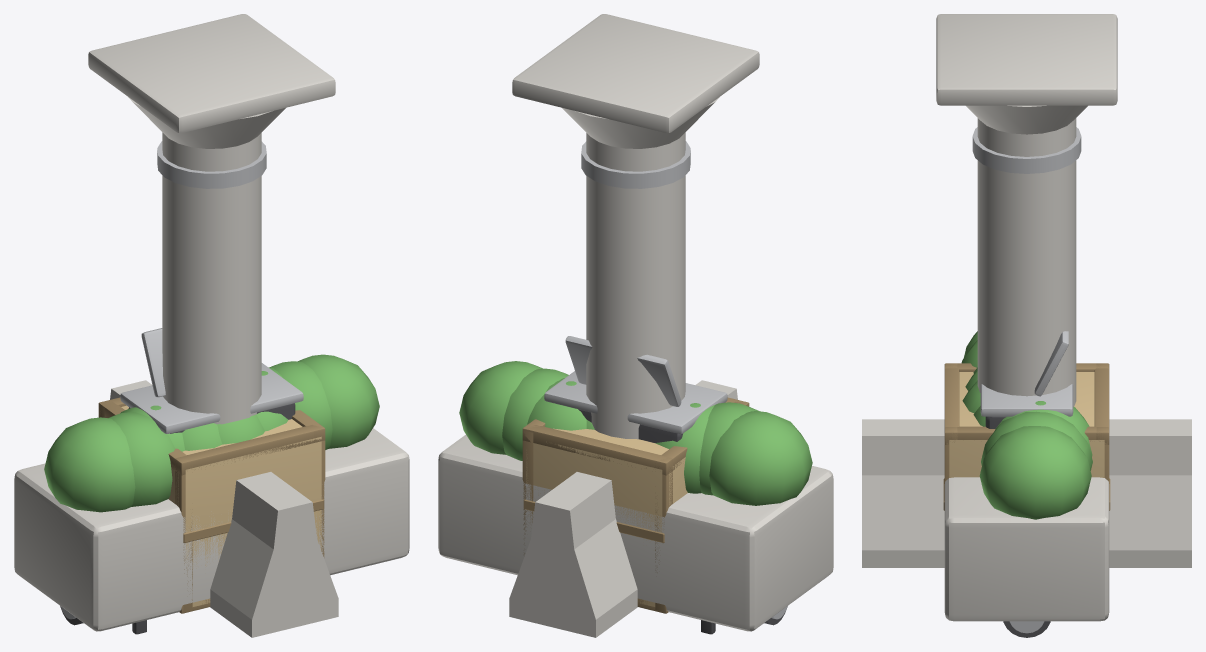
The model's file is props.glb.
3 renders of one model, left to right at view 1: azimuth 30°, elevation 25°; view 2: azimuth 150°, elevation 25°; view 3: azimuth 270°, elevation 25°, orthographic.
Visible parts, largest first — view 1: column__concrete, planter__concrete, planter__hedge, jersey__concrete, crate__crate, crate__crate_frame, console__metal, column__metal; view 2: column__concrete, planter__concrete, planter__hedge, jersey__concrete, crate__crate, crate__crate_frame, console__metal, column__metal, console__dark; view 3: column__concrete, jersey__concrete, planter__concrete, planter__hedge, crate__crate_frame, crate__crate, console__metal, column__metal.
Boxes of the visible parts, x1,y1,x2,y2 form: column__concrete: [88, 14, 335, 424]; planter__concrete: [14, 428, 409, 631]; planter__hedge: [44, 354, 379, 512]; jersey__concrete: [110, 380, 338, 637]; crate__crate: [105, 405, 321, 606]; crate__crate_frame: [98, 397, 325, 613]; console__metal: [120, 328, 303, 433]; column__metal: [157, 141, 266, 188]; column__concrete: [512, 14, 759, 439]; planter__concrete: [438, 434, 833, 631]; planter__hedge: [459, 361, 812, 505]; jersey__concrete: [509, 380, 737, 637]; crate__crate: [526, 428, 687, 606]; crate__crate_frame: [522, 397, 749, 613]; console__metal: [544, 336, 727, 433]; column__metal: [581, 141, 690, 188]; console__dark: [578, 409, 682, 442]; column__concrete: [936, 14, 1117, 406]; jersey__concrete: [862, 419, 1191, 567]; planter__concrete: [944, 477, 1109, 621]; planter__hedge: [961, 331, 1092, 519]; crate__crate_frame: [943, 363, 1110, 510]; crate__crate: [949, 372, 1104, 477]; console__metal: [980, 331, 1073, 416]; column__metal: [972, 127, 1081, 173].
Bounding box in the file's own units: 2.28 × 3.64 × 2.
